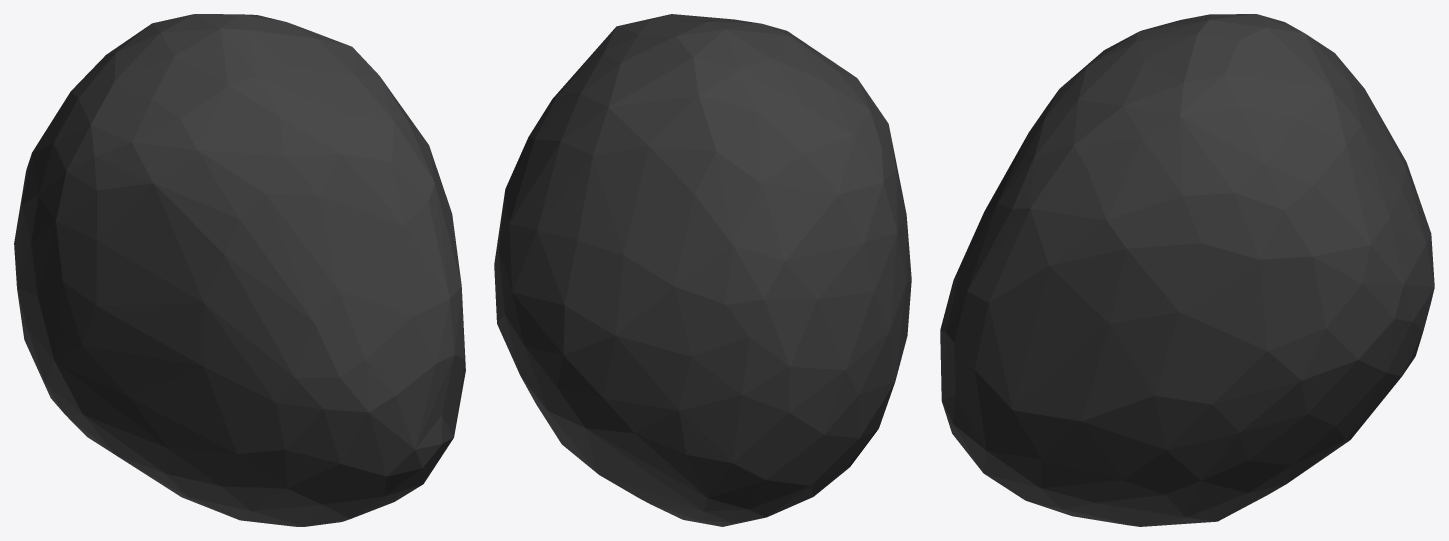
File: nodes_lymph_gastric_LP.glb
The picture shows the model from 3 angles, left to right: view 1: azimuth 30°, elevation 25°; view 2: azimuth 150°, elevation 25°; view 3: azimuth 270°, elevation 25°; orthographic projection. The views are drawn at different scales.
Visible parts, largest first — view 1: nodes_lymph_gastric_LP; view 2: nodes_lymph_gastric_LP; view 3: nodes_lymph_gastric_LP.
Part boxes in pixels (x1=…): nodes_lymph_gastric_LP: x1=14, y1=14, x2=465, y2=526; nodes_lymph_gastric_LP: x1=494, y1=14, x2=911, y2=526; nodes_lymph_gastric_LP: x1=940, y1=14, x2=1434, y2=526.
Size of the model in its own units: 0.1377 by 0.1782 by 0.1642.
Materials: 1 (1 with a texture image).
